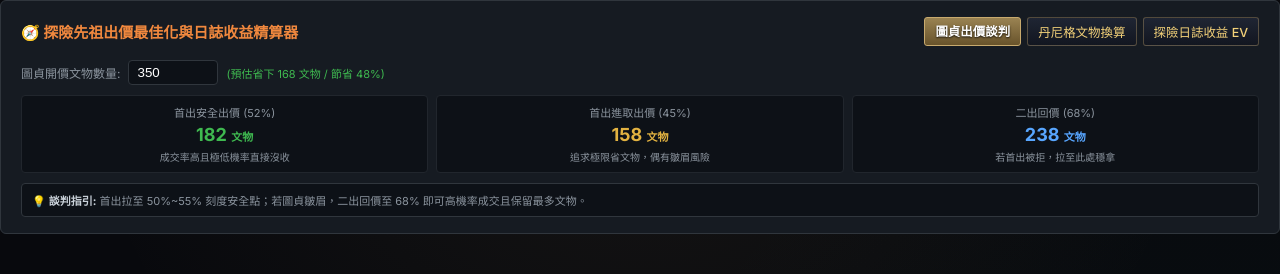
Scenario: ExpeditionOptimizerCard › should switch to Logbook EV tab, toggle deadly affixes, and warn player
Click the button "探險日誌收益 EV" at [1201, 32], box 1142,17 -> 1259,46
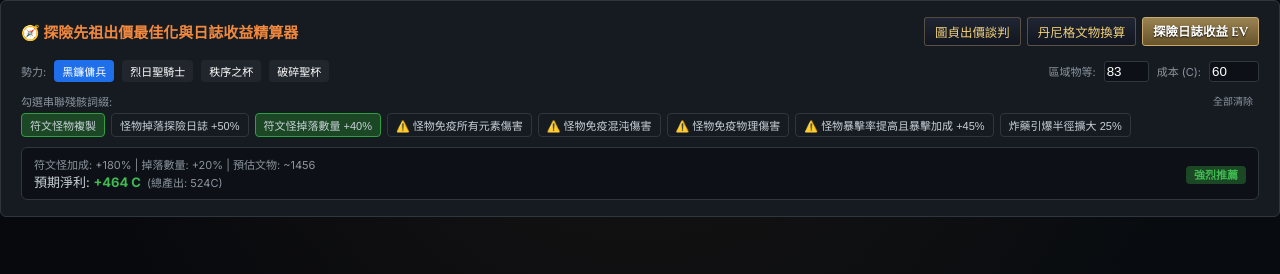
Check: the button "黑鐮傭兵" is shown, box 54,60 -> 114,82
Check: the text "符文怪加成: +180% | 掉落數量: +20% | 預估文物: ~1456" is shown, box 34,156 -> 315,172
Click the button "⚠️ 怪物免疫所有元素傷害" at [459, 125], box 387,113 -> 532,137
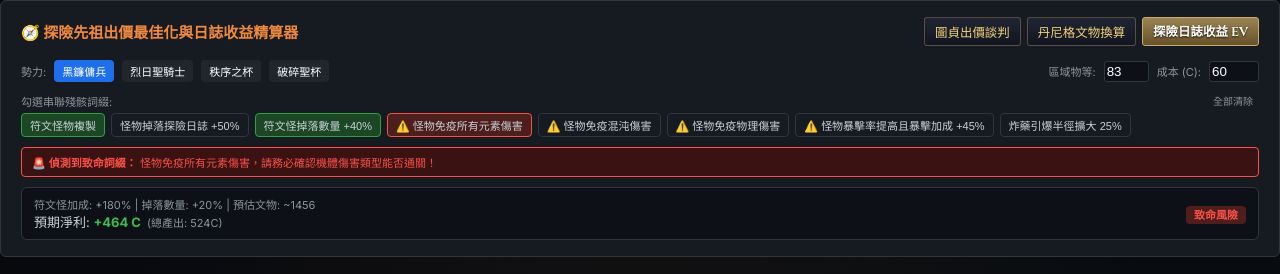
Check: the text "偵測到致命詞綴：" is shown, box 49,156 -> 137,170
Check: the text "致命風險" is shown, box 1186,206 -> 1246,224
